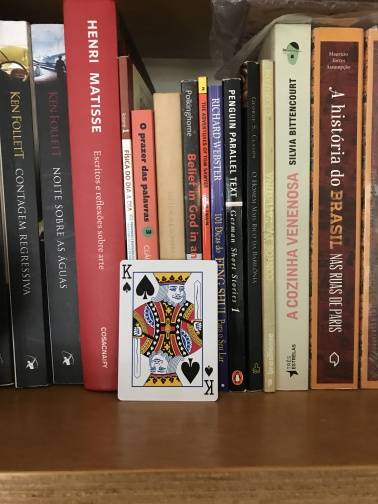king: (116, 258, 219, 402)
